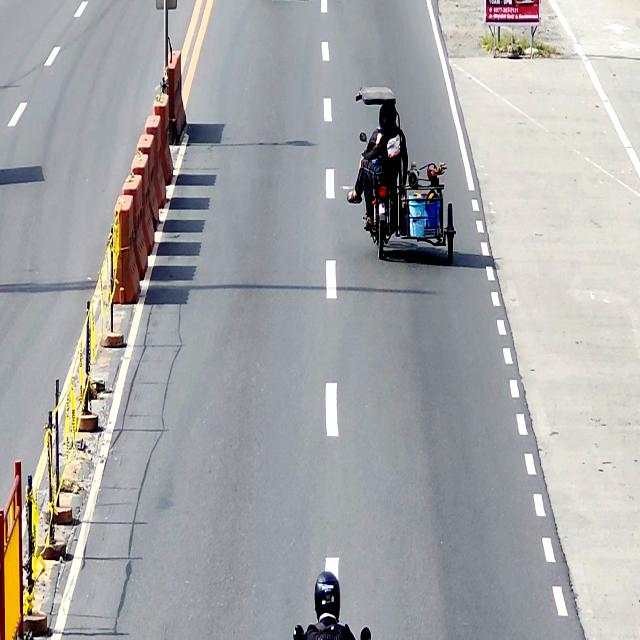Tricycle: (349, 85, 456, 263)
